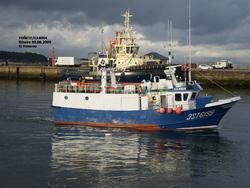otherboat: (45, 2, 243, 131)
